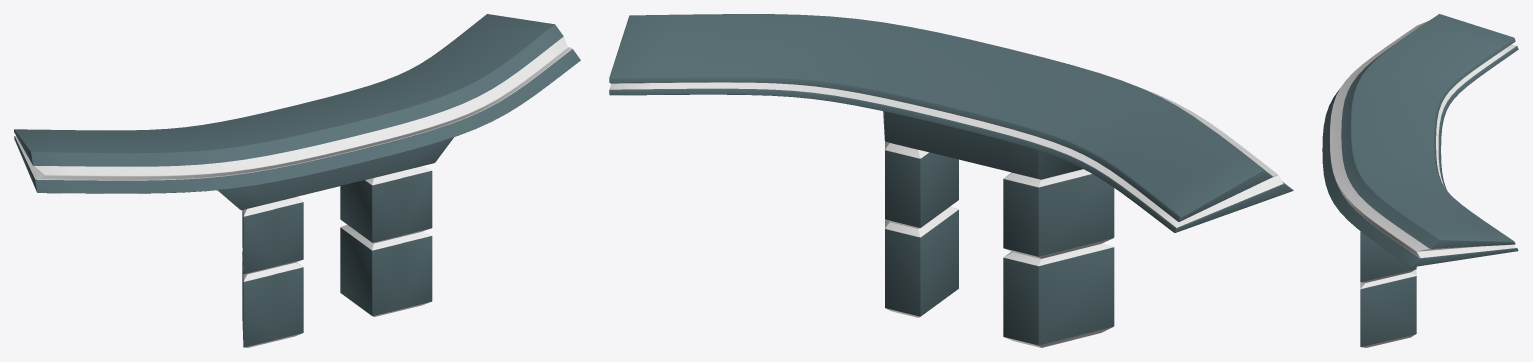
Rendered from console.fbx.
3 views of the same model, side by side, from view 1: azimuth 30°, elevation 25°; view 2: azimuth 150°, elevation 25°; view 3: azimuth 270°, elevation 25° (orthographic). The views are drawn at different scales.
Visible parts, largest first — view 1: Console; view 2: Console; view 3: Console.
Part boxes in pixels (left/top/right/bottom): Console: left=14, top=14, right=580, bottom=347; Console: left=609, top=14, right=1293, bottom=347; Console: left=1322, top=14, right=1518, bottom=347.
Bounding box in the file's own units: 324 × 115 × 119.
